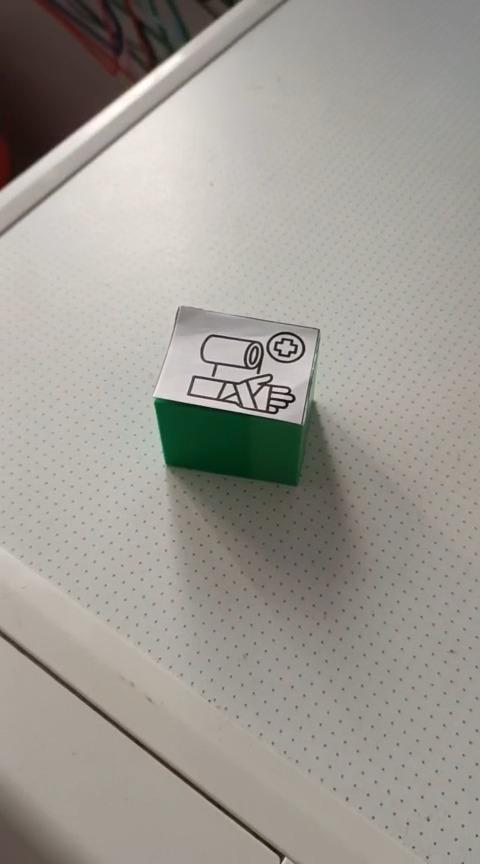Bandages: (152, 305, 321, 487)
